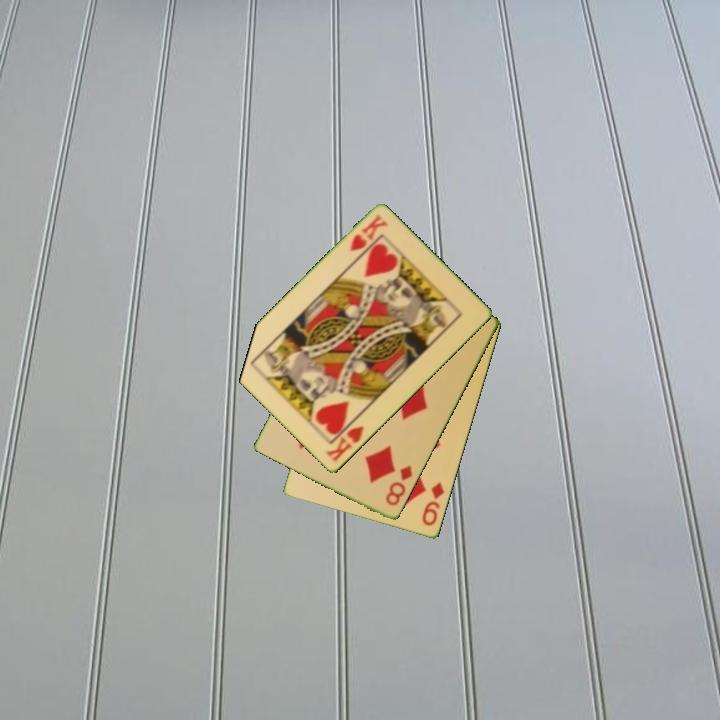8d: (382, 462, 416, 509)
9d: (419, 479, 448, 529)
Kh: (322, 414, 367, 466), (346, 211, 391, 255)
